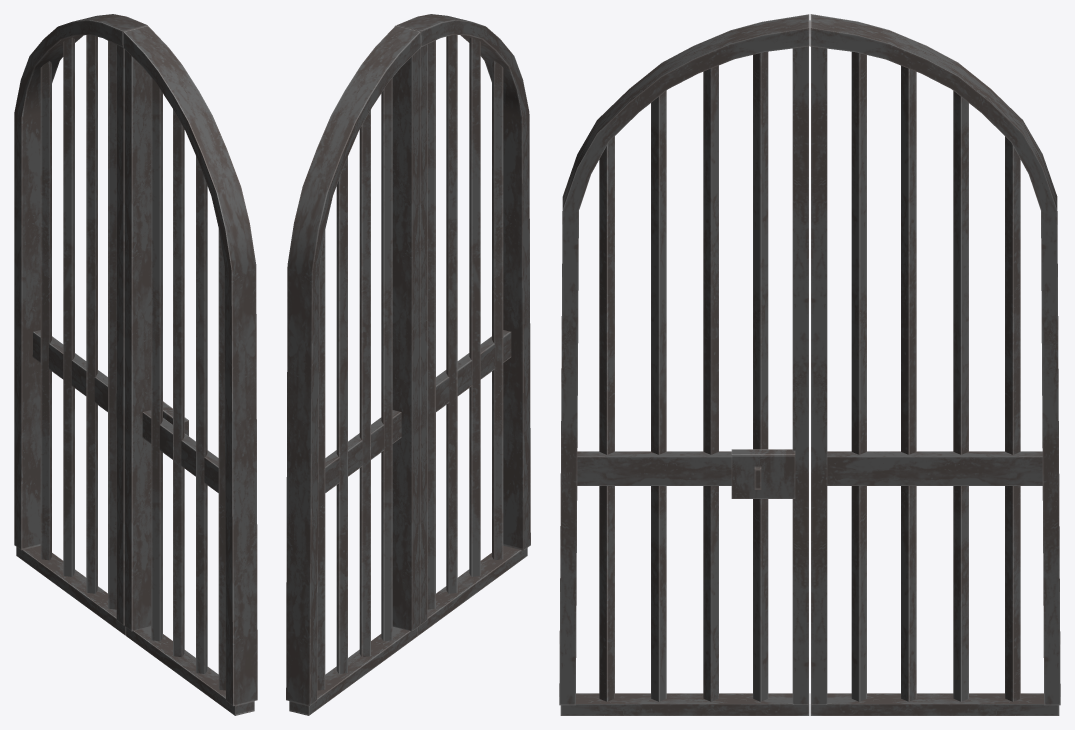
Rendered from Prop_MetalGate.fbx.
3 renders of one model, left to right at view 1: azimuth 30°, elevation 25°; view 2: azimuth 150°, elevation 25°; view 3: azimuth 270°, elevation 25°, orthographic. The views are drawn at different scales.
Visible parts, largest first — view 1: CDTMesh_Door1, CDTMesh_Door2; view 2: CDTMesh_Door2, CDTMesh_Door1; view 3: CDTMesh_Door1, CDTMesh_Door2.
Boxes of the visible parts, x1,y1,x2,y2 form: CDTMesh_Door1: (123,26,257,715); CDTMesh_Door2: (14,14,147,635); CDTMesh_Door2: (286,25,420,715); CDTMesh_Door1: (396,14,530,635); CDTMesh_Door1: (559,14,809,715); CDTMesh_Door2: (810,14,1060,715).
Bounding box in the file's own units: 0.2433 × 3.85 × 2.53.
1 material, 1 textured.
